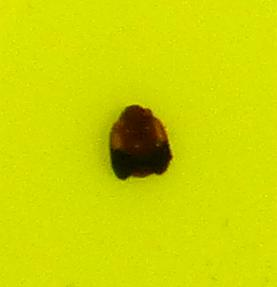Coleoptera: (100, 100, 177, 187)
